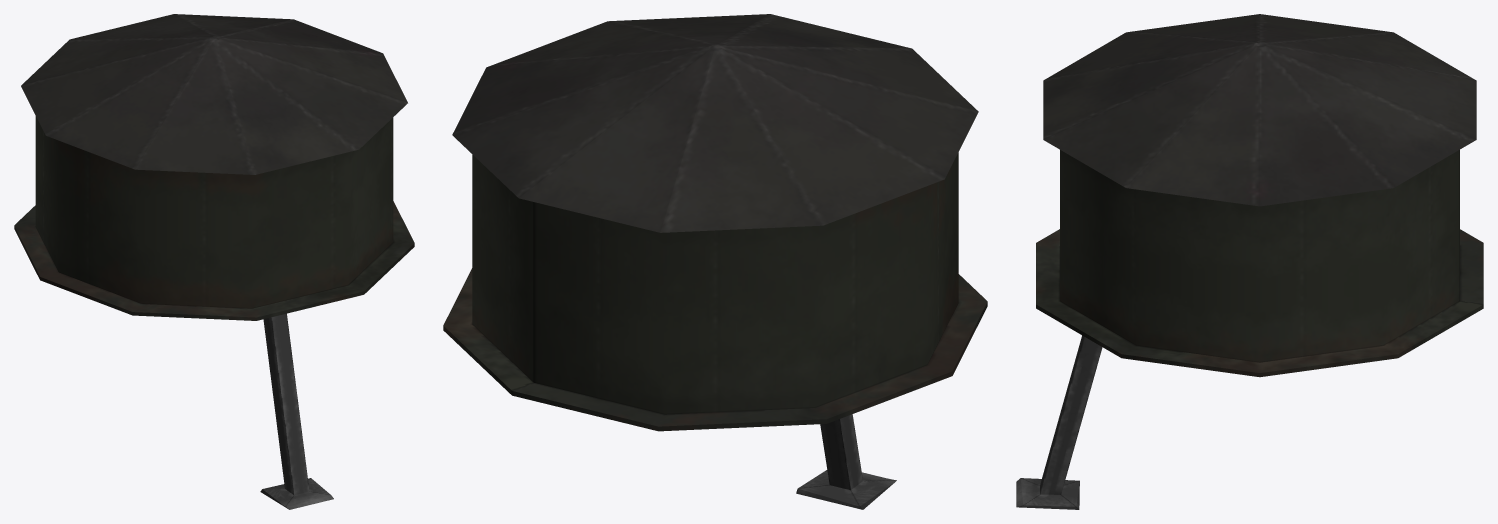
Rendered from Water_tower.FBX.
3 views of the same model, side by side, from view 1: azimuth 30°, elevation 25°; view 2: azimuth 150°, elevation 25°; view 3: azimuth 270°, elevation 25° (orthographic). The views are drawn at different scales.
Visible parts, largest first — view 1: Cylinder051, Box029; view 2: Cylinder051, Box029; view 3: Cylinder051, Box029.
Part boxes in pixels (box(x1,y1,x2,y2)): Cylinder051: box(14, 14, 414, 320); Box029: box(260, 313, 333, 509); Cylinder051: box(443, 14, 987, 431); Box029: box(796, 414, 896, 509); Cylinder051: box(1036, 14, 1483, 377); Box029: box(1016, 335, 1102, 509).
Size of the model in its own units: 1142 by 1216 by 1134.
